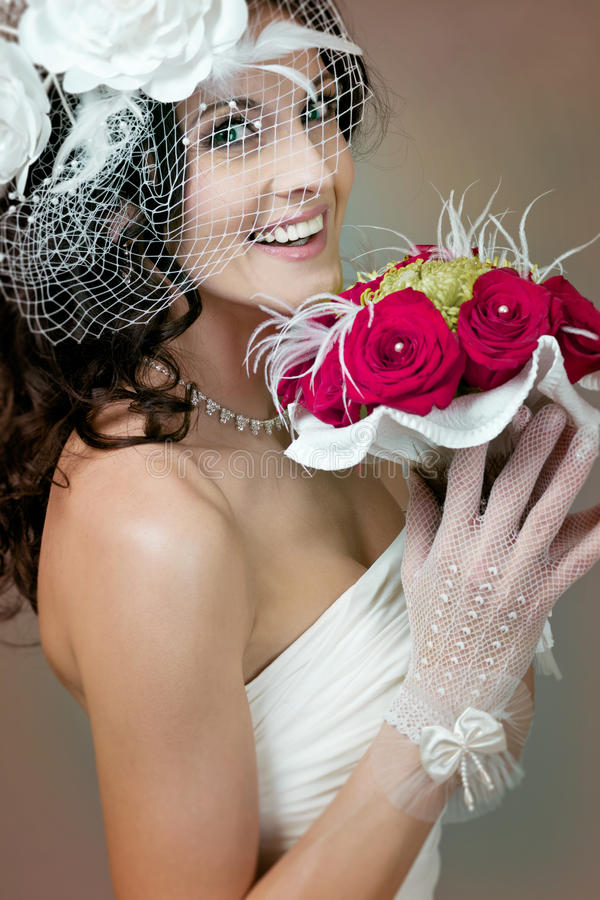RedRose: (342, 286, 455, 414), (461, 268, 553, 382), (515, 260, 600, 382), (286, 322, 354, 430)
